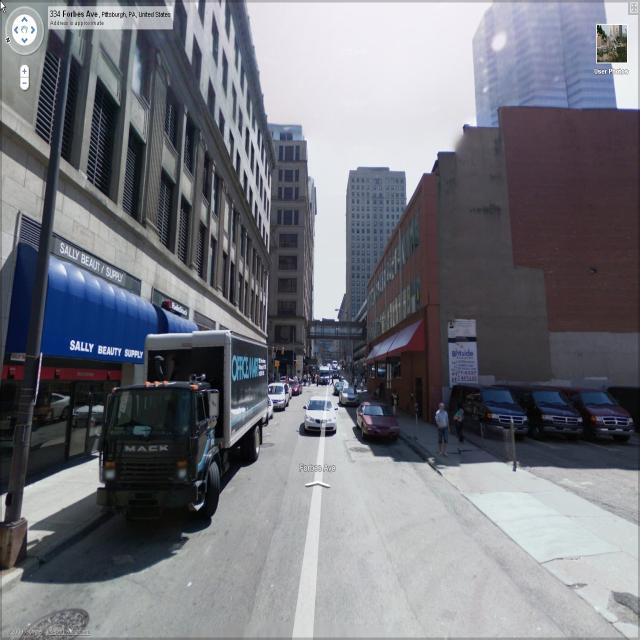b_1: (1, 1, 275, 385), (351, 112, 635, 419), (468, 5, 626, 114), (343, 150, 407, 326), (268, 138, 314, 382)
